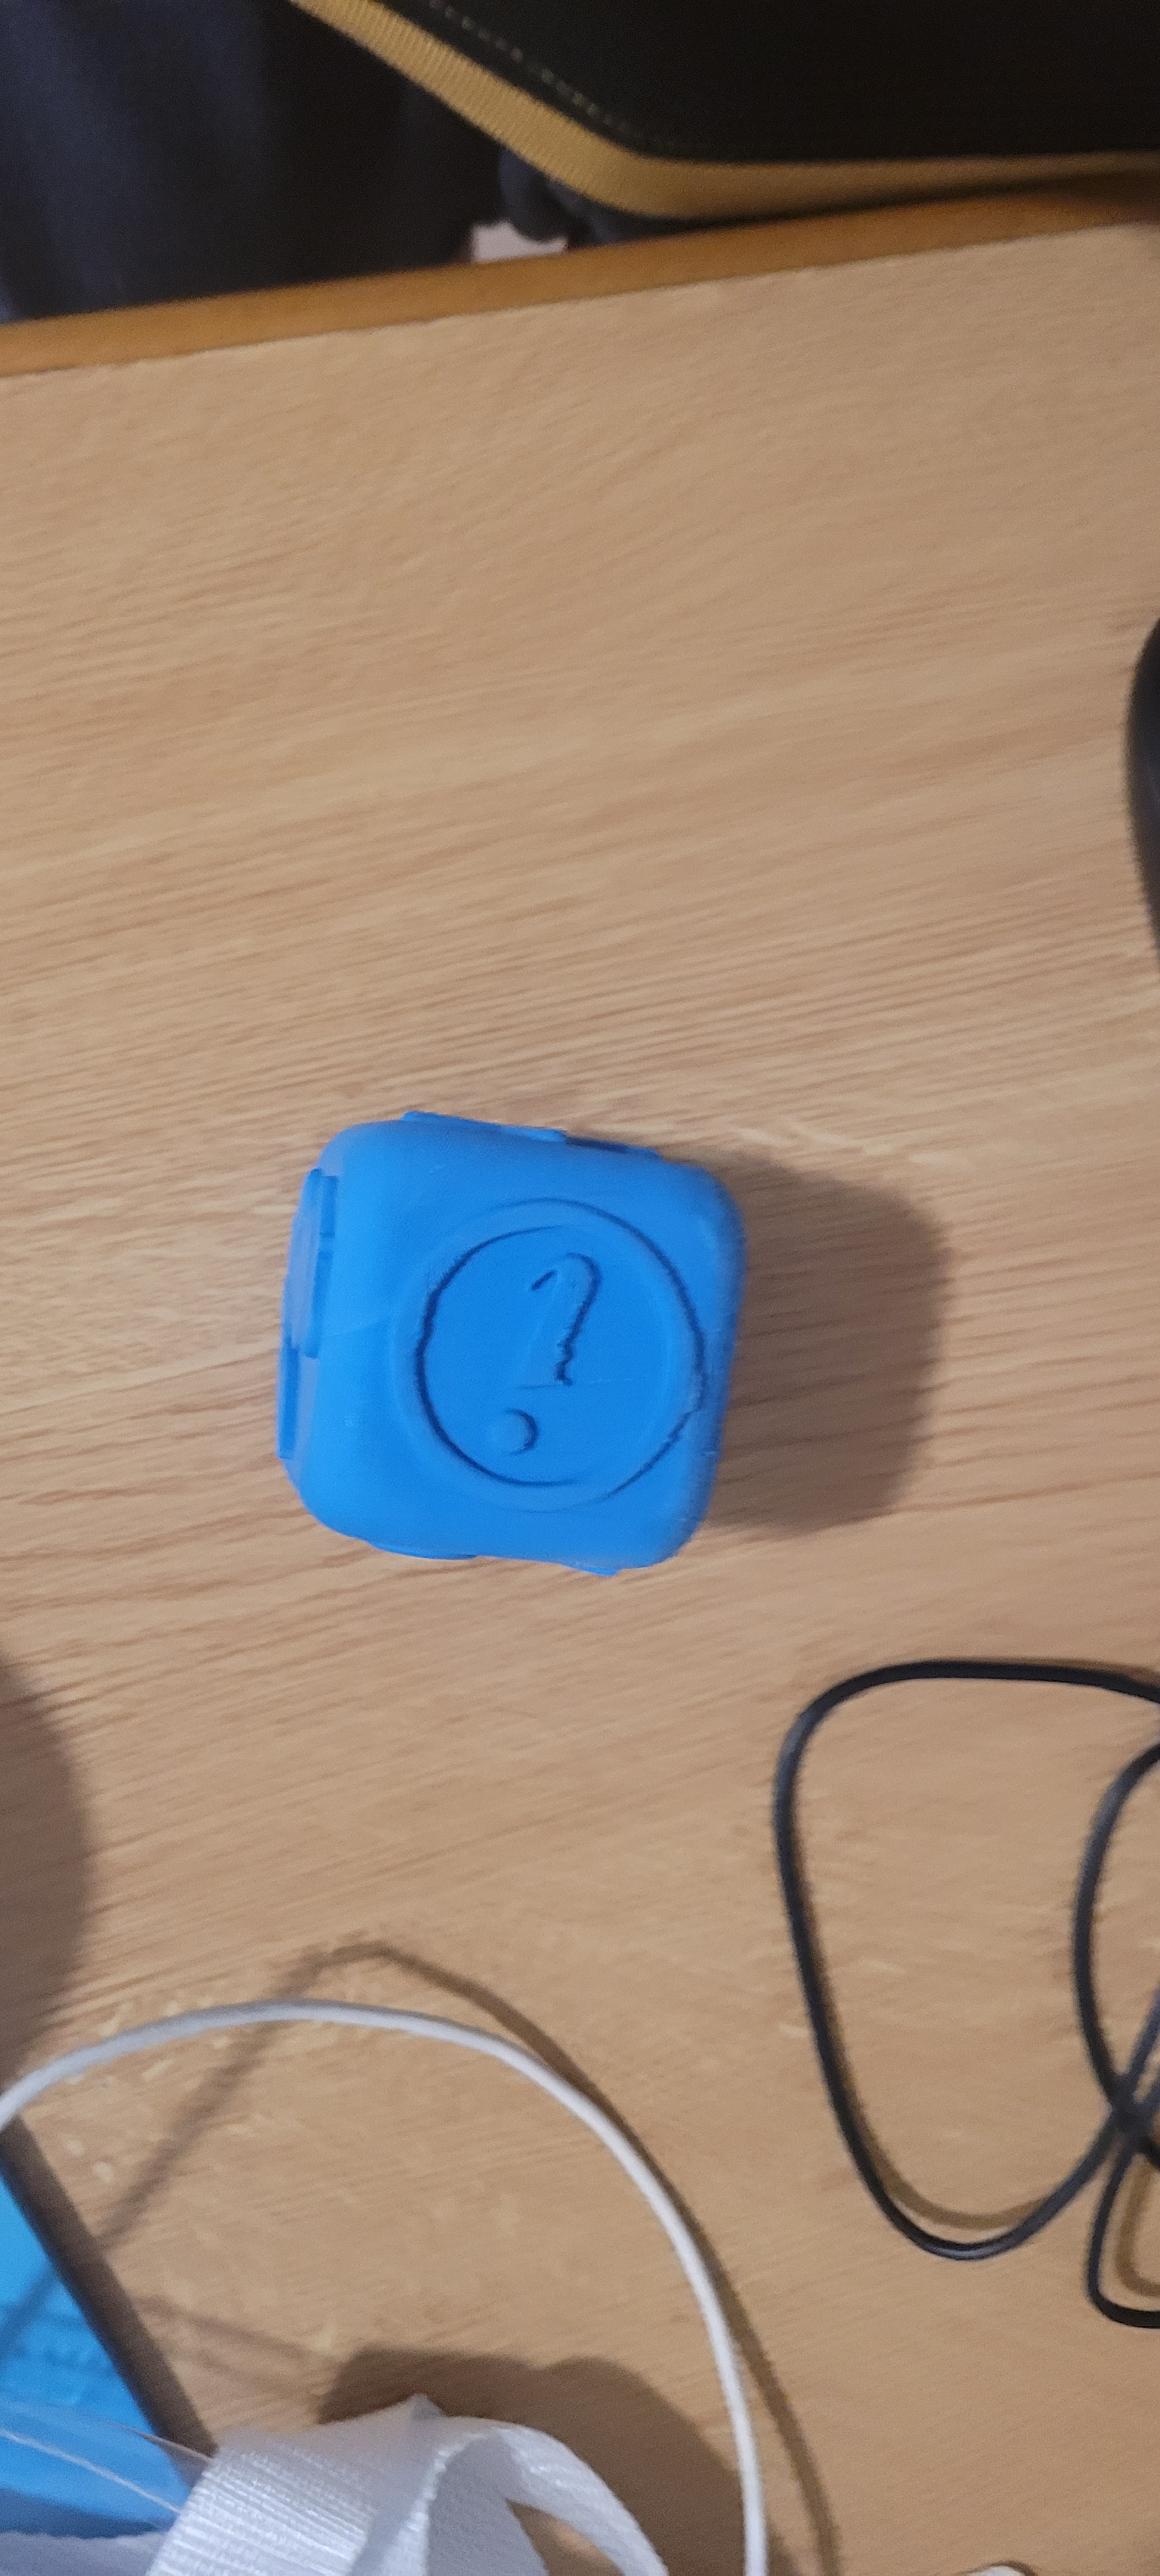Info: (373, 1181, 711, 1503)
